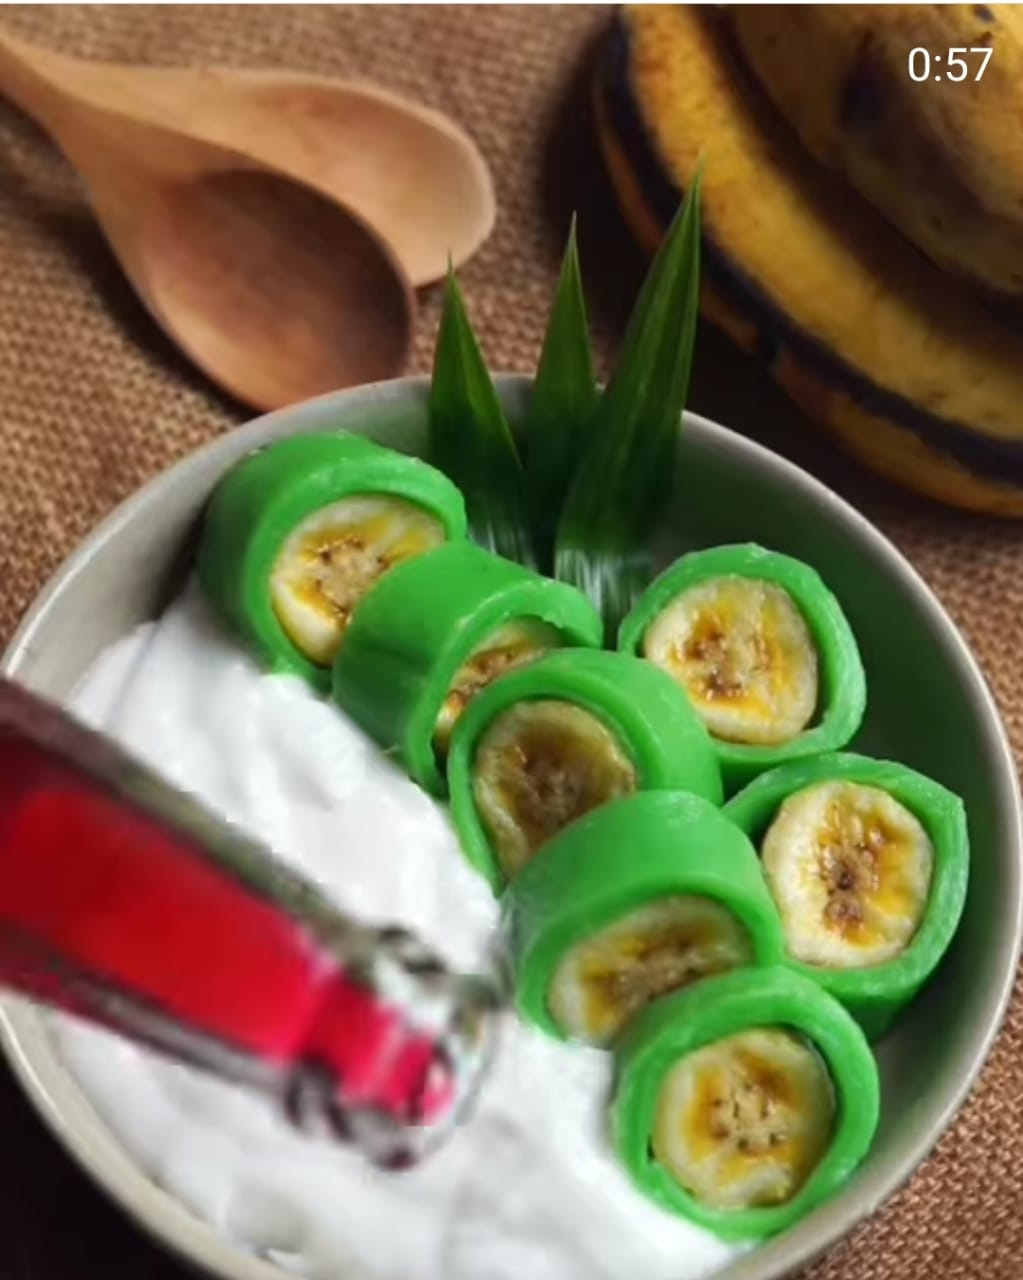pisang_ijo: (627, 953, 891, 1254)
